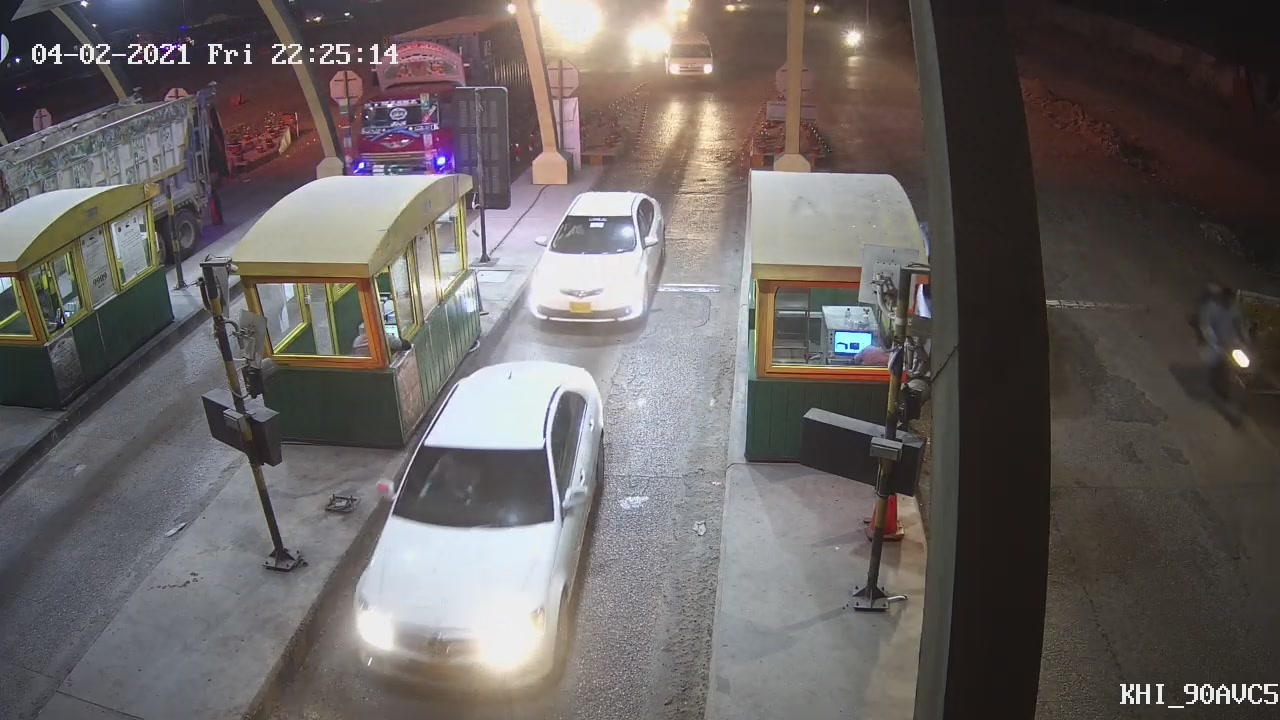F1: (341, 356, 609, 696), (525, 187, 670, 337)
